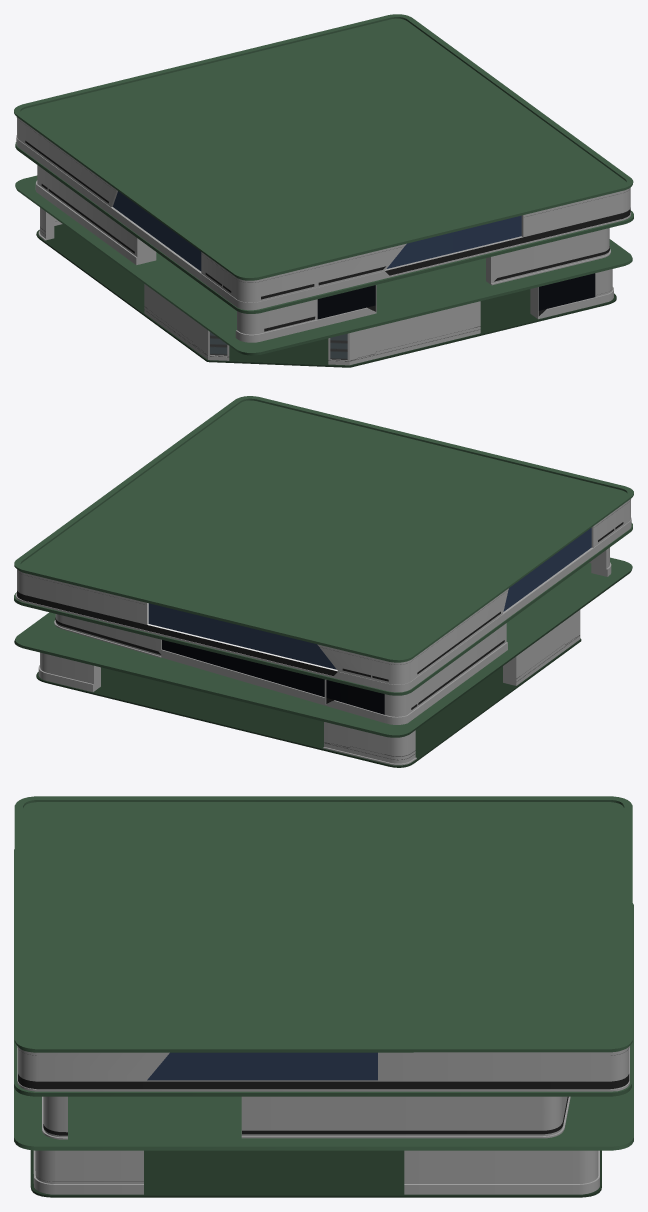
File: Building_002_1st_L0.fbx
3 renders of one model, top to bottom at view 1: azimuth 30°, elevation 25°; view 2: azimuth 150°, elevation 25°; view 3: azimuth 270°, elevation 25°, orthographic. The views are drawn at different scales.
Visible parts, largest first — view 1: Building_002_1st_L0; view 2: Building_002_1st_L0; view 3: Building_002_1st_L0.
Part boxes in pixels (bbox=[...]): Building_002_1st_L0: bbox=[14, 14, 633, 367]; Building_002_1st_L0: bbox=[14, 396, 633, 767]; Building_002_1st_L0: bbox=[14, 796, 633, 1197].
Size of the model in its own units: 55.24 by 15.8 by 57.14.
